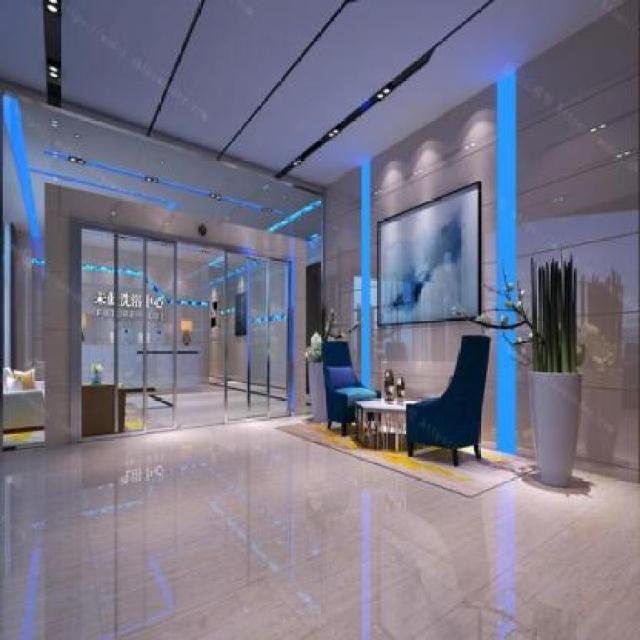frontdesk: (70, 331, 222, 408)
